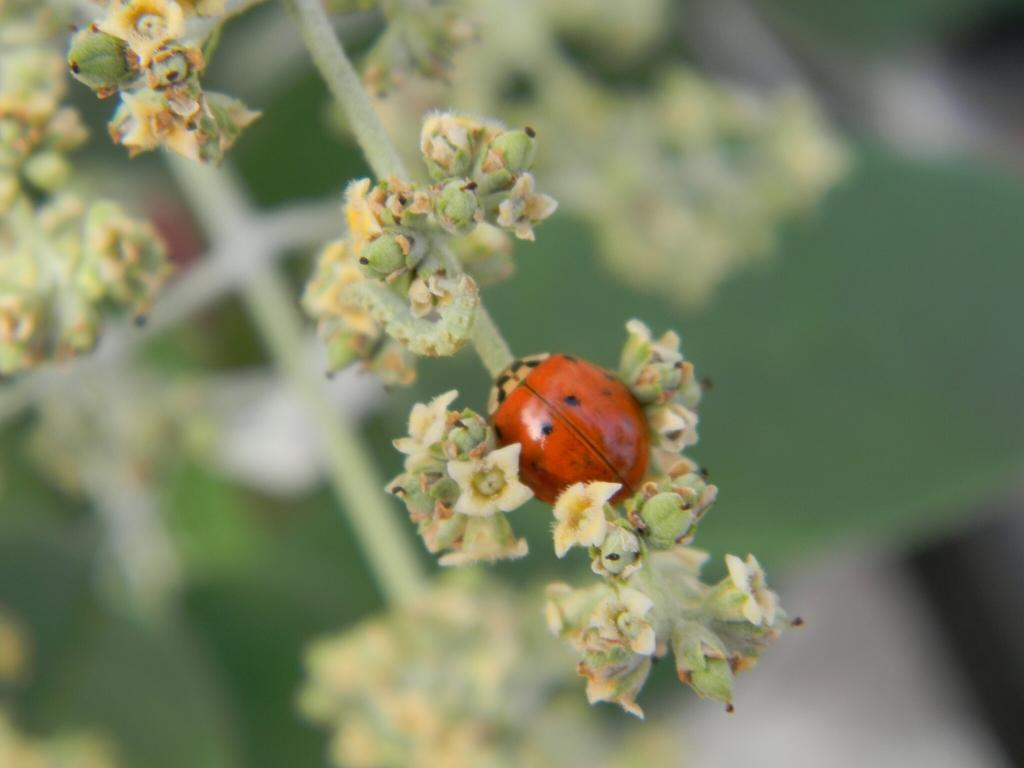ladybug: (483, 345, 657, 513)
